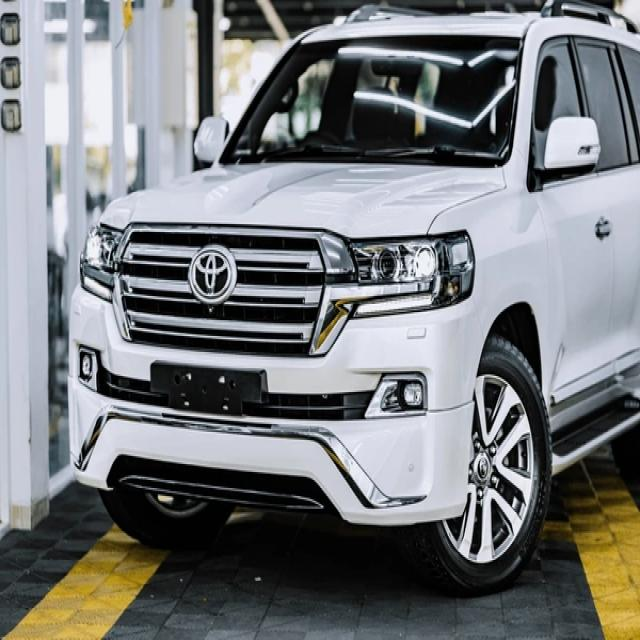toyota: (190, 249, 234, 303)
